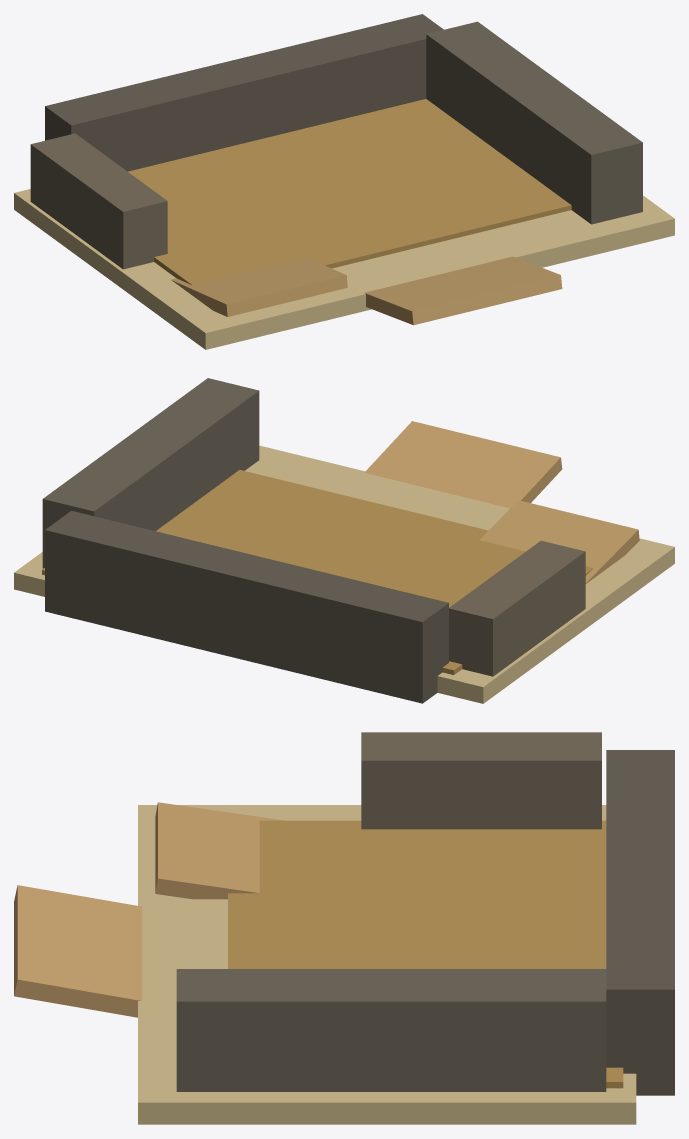
File: metaverse-hub-shoreline-high.gltf
The picture shows the model from 3 angles, top to bottom: view 1: azimuth 30°, elevation 25°; view 2: azimuth 150°, elevation 25°; view 3: azimuth 270°, elevation 25°; orthographic projection. The views are drawn at different scales.
Visible parts, largest first — view 1: metaverse_hub_shoreline_high; view 2: metaverse_hub_shoreline_high; view 3: metaverse_hub_shoreline_high.
Boxes of the visible parts, bbox=[...] form: metaverse_hub_shoreline_high: bbox=[14, 14, 674, 349]; metaverse_hub_shoreline_high: bbox=[14, 378, 674, 703]; metaverse_hub_shoreline_high: bbox=[14, 732, 674, 1124].
Bounding box in the file's own units: 8.2 × 1.72 × 7.69.
